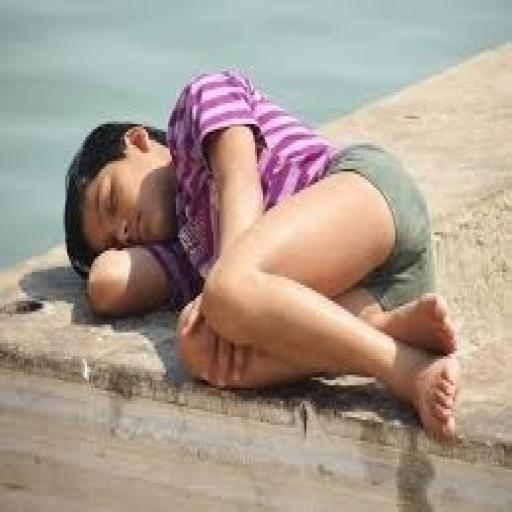sleeping: (61, 66, 465, 449)
